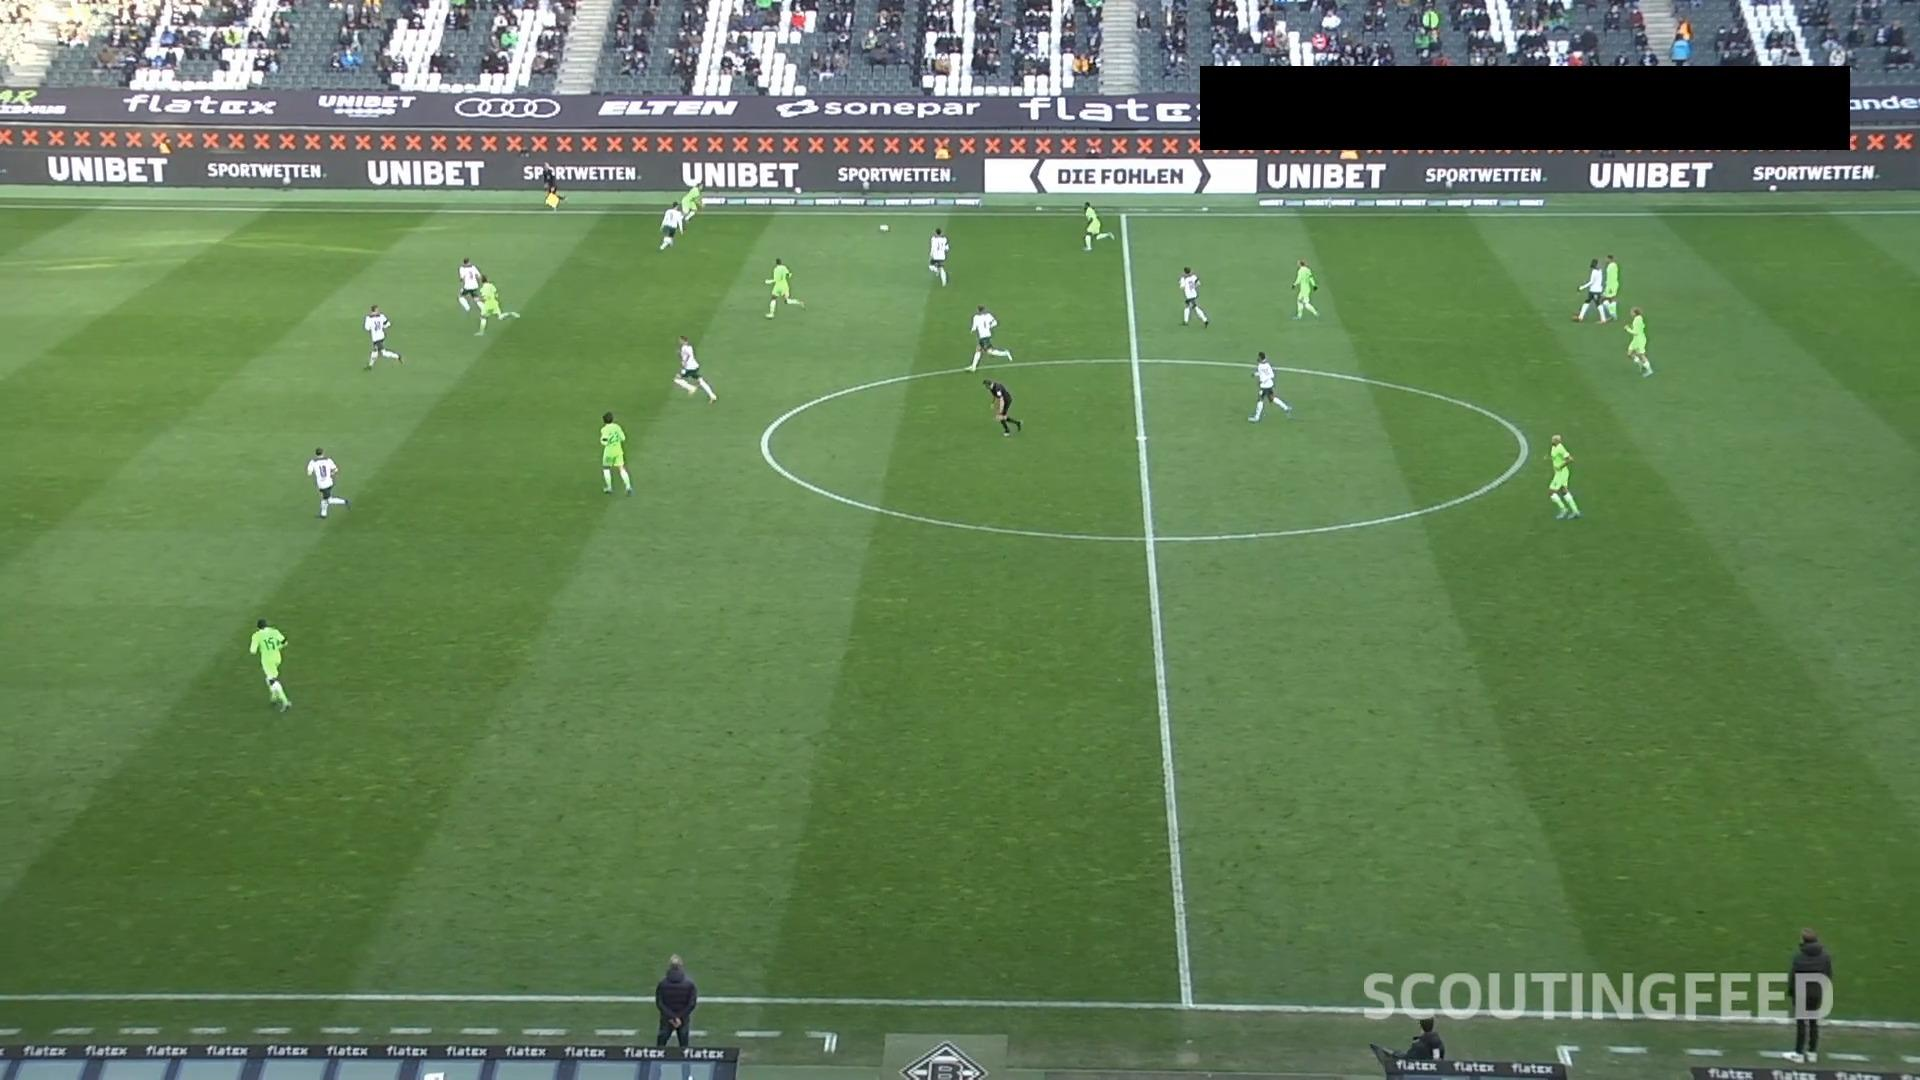ball: (878, 220, 892, 234)
coach: (1783, 926, 1833, 1062), (654, 953, 697, 1047)
player: (248, 617, 291, 713), (671, 333, 717, 402), (966, 303, 1012, 372), (1247, 350, 1291, 422), (305, 446, 348, 518), (597, 410, 632, 495), (472, 274, 520, 335), (1546, 433, 1580, 519), (362, 303, 402, 369), (763, 256, 803, 318), (1572, 256, 1605, 322), (1623, 306, 1652, 377), (1177, 265, 1208, 326), (1290, 258, 1318, 318), (1597, 252, 1619, 321), (456, 256, 482, 311), (657, 200, 684, 250), (927, 226, 949, 286), (677, 181, 703, 227), (1082, 200, 1100, 251)
referee: (981, 377, 1022, 437), (1403, 1016, 1445, 1060), (537, 160, 563, 210)
